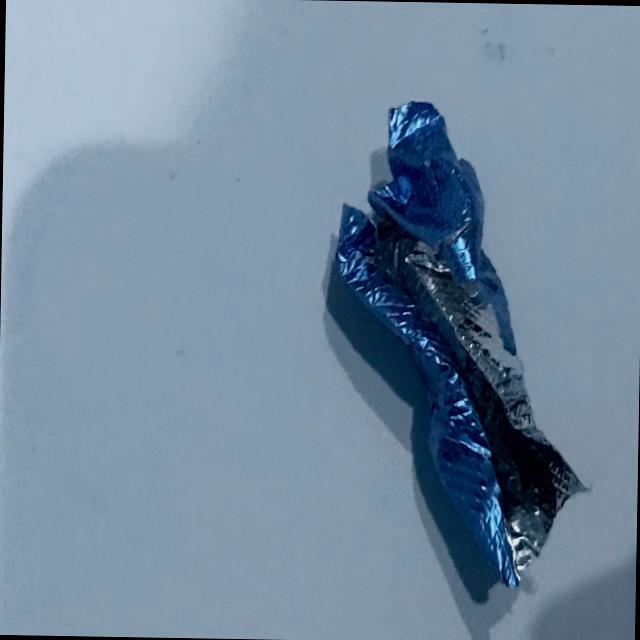metal: (308, 74, 608, 606)
